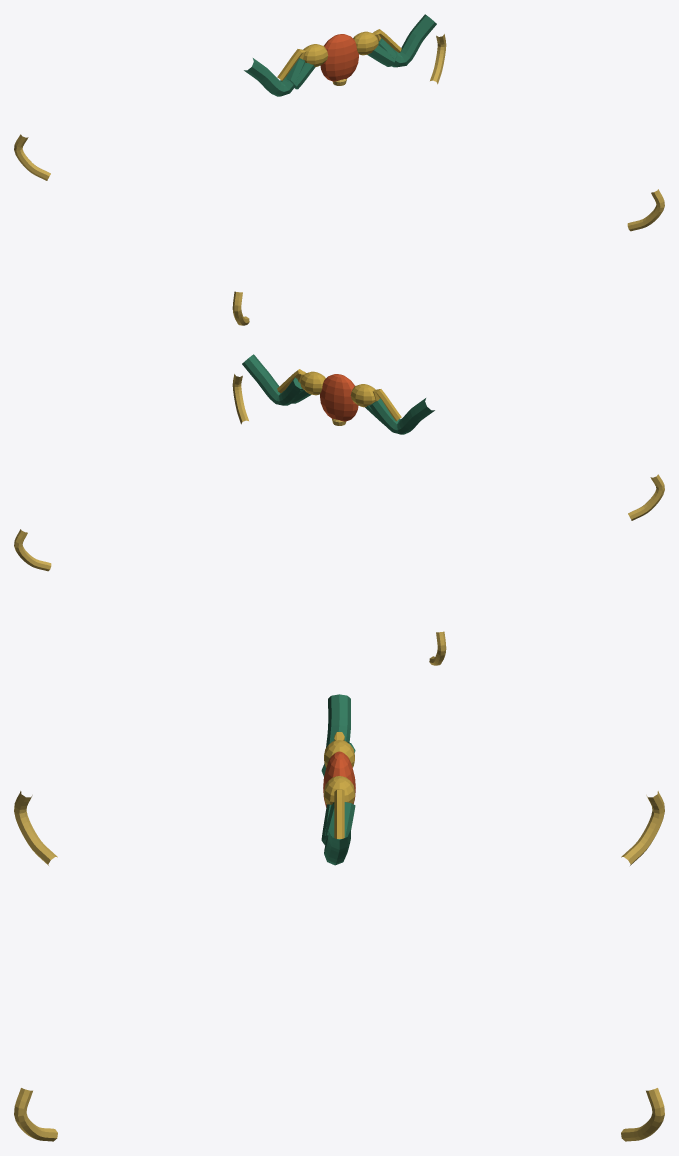
Rendered from gate-quangduc-hero.glb.
3 renders of one model, top to bottom at view 1: azimuth 30°, elevation 25°; view 2: azimuth 150°, elevation 25°; view 3: azimuth 270°, elevation 25°, orthographic. The views are drawn at different scales.
Parts seen in each view (by area): view 1: gate_quangduc_hero; view 2: gate_quangduc_hero; view 3: gate_quangduc_hero.
Boxes of the visible parts, x1,y1,x2,y2 form: gate_quangduc_hero: [14, 14, 664, 325]; gate_quangduc_hero: [14, 354, 664, 665]; gate_quangduc_hero: [14, 694, 664, 1141].
Bounding box in the file's own units: 5.83 × 2.21 × 5.23.
